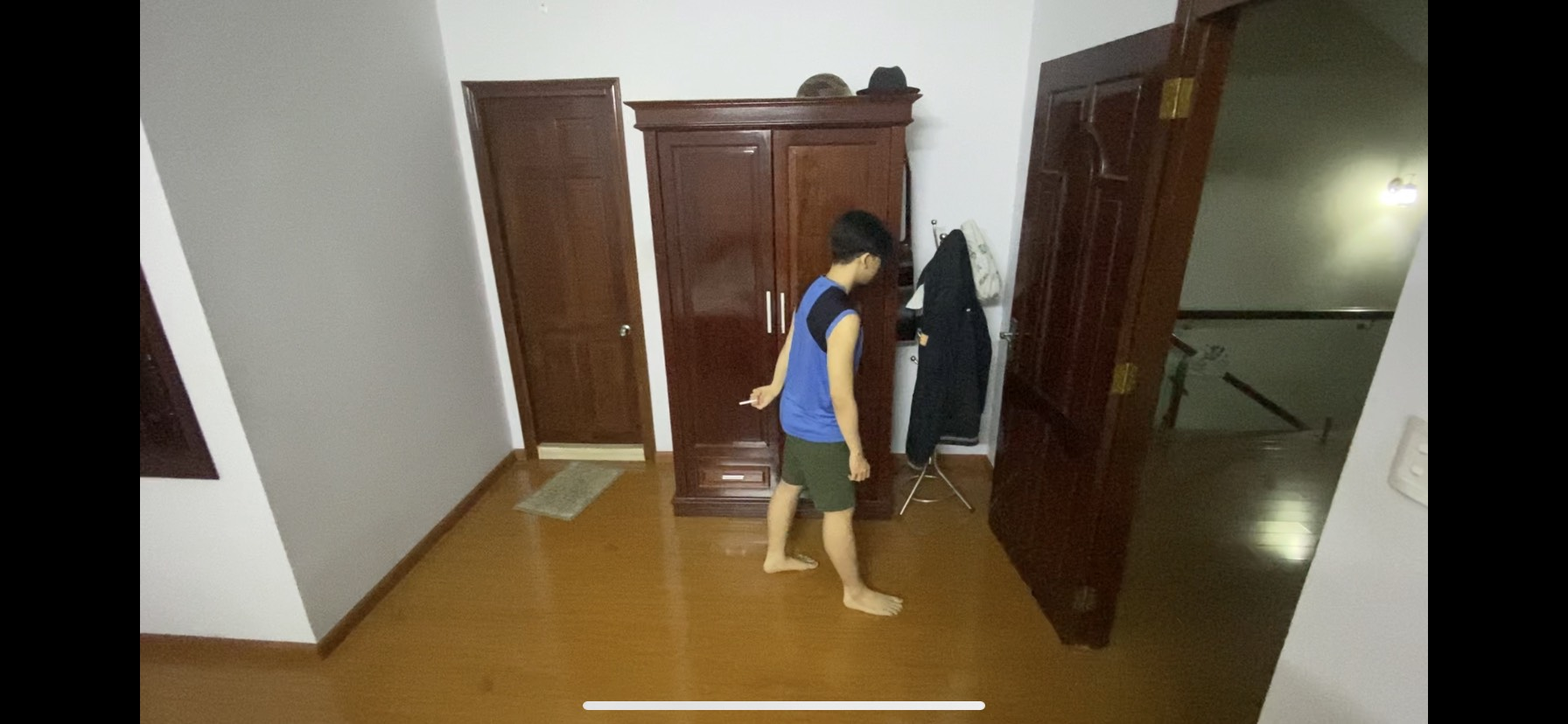cigarette: (738, 399, 752, 408)
person: (746, 185, 919, 634)
